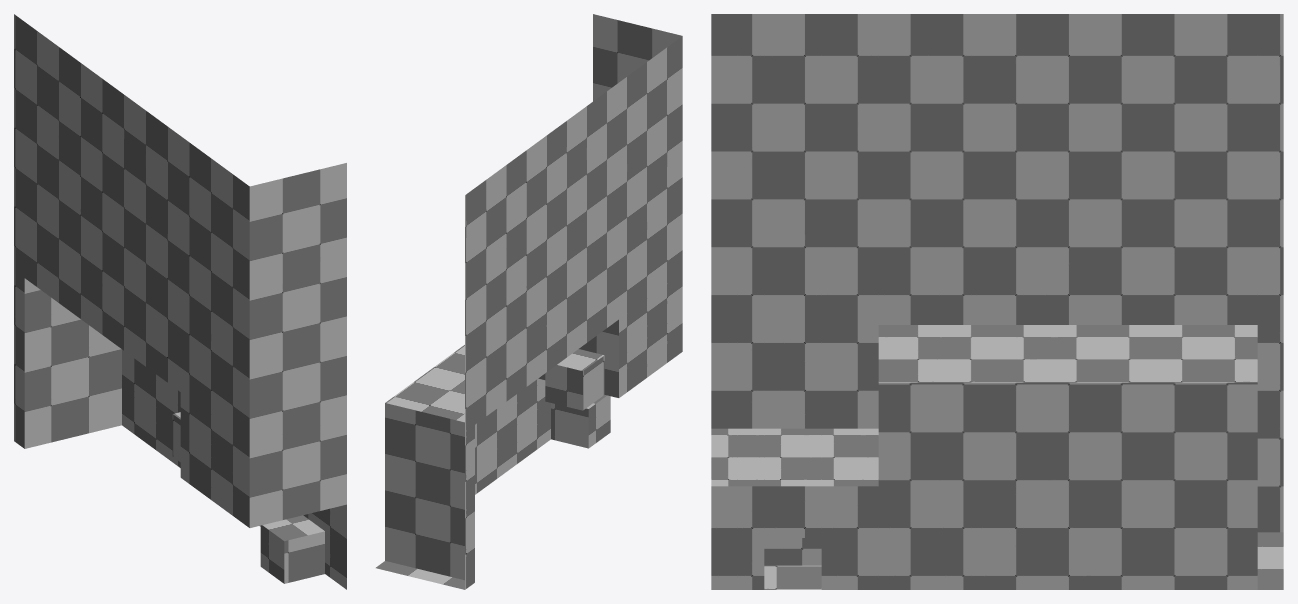
File: JalarObjetos.obj
The picture shows the model from 3 angles, left to right: view 1: azimuth 30°, elevation 25°; view 2: azimuth 150°, elevation 25°; view 3: azimuth 270°, elevation 25°; orthographic projection. The views are drawn at different scales.
Visible parts, largest first — view 1: para_provar_objetos; view 2: para_provar_objetos; view 3: para_provar_objetos.
Boxes of the visible parts, x1,y1,x2,y2 form: para_provar_objetos: (14, 14, 346, 589); para_provar_objetos: (376, 14, 682, 589); para_provar_objetos: (711, 14, 1283, 589).
Size of the model in its own units: 4.76 by 20 by 20.
